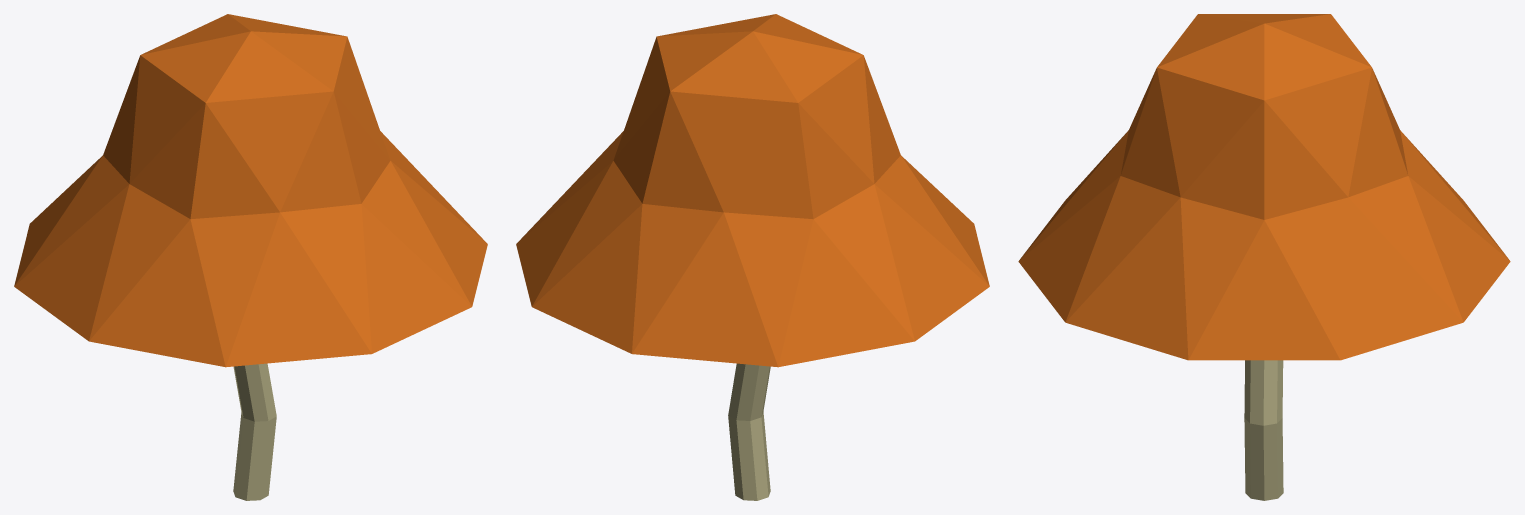
The model's file is hat_mushroom_orange.fbx.
3 views of the same model, side by side, from view 1: azimuth 30°, elevation 25°; view 2: azimuth 150°, elevation 25°; view 3: azimuth 270°, elevation 25° (orthographic).
Parts seen in each view (by area): view 1: hat_mushroom_orange; view 2: hat_mushroom_orange; view 3: hat_mushroom_orange.
Boxes of the visible parts, bbox=[...] form: hat_mushroom_orange: bbox=[14, 14, 487, 500]; hat_mushroom_orange: bbox=[516, 14, 989, 500]; hat_mushroom_orange: bbox=[1018, 14, 1510, 500].
Size of the model in its own units: 74.49 by 82.43 by 78.32.
